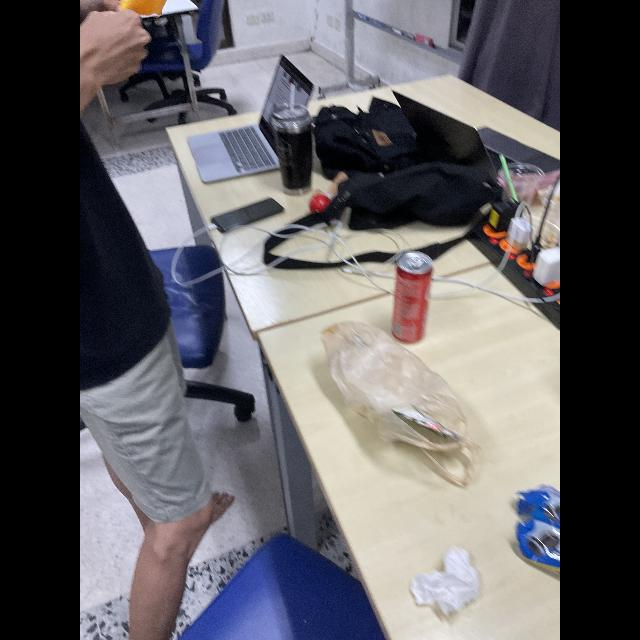can: (390, 251, 438, 347)
plastic_bag: (316, 318, 484, 494)
plastic_cup: (496, 151, 544, 229)
scrap_paper: (408, 547, 489, 617)
snack_bag: (512, 483, 560, 569)
straw: (500, 153, 520, 204), (290, 83, 296, 121)
